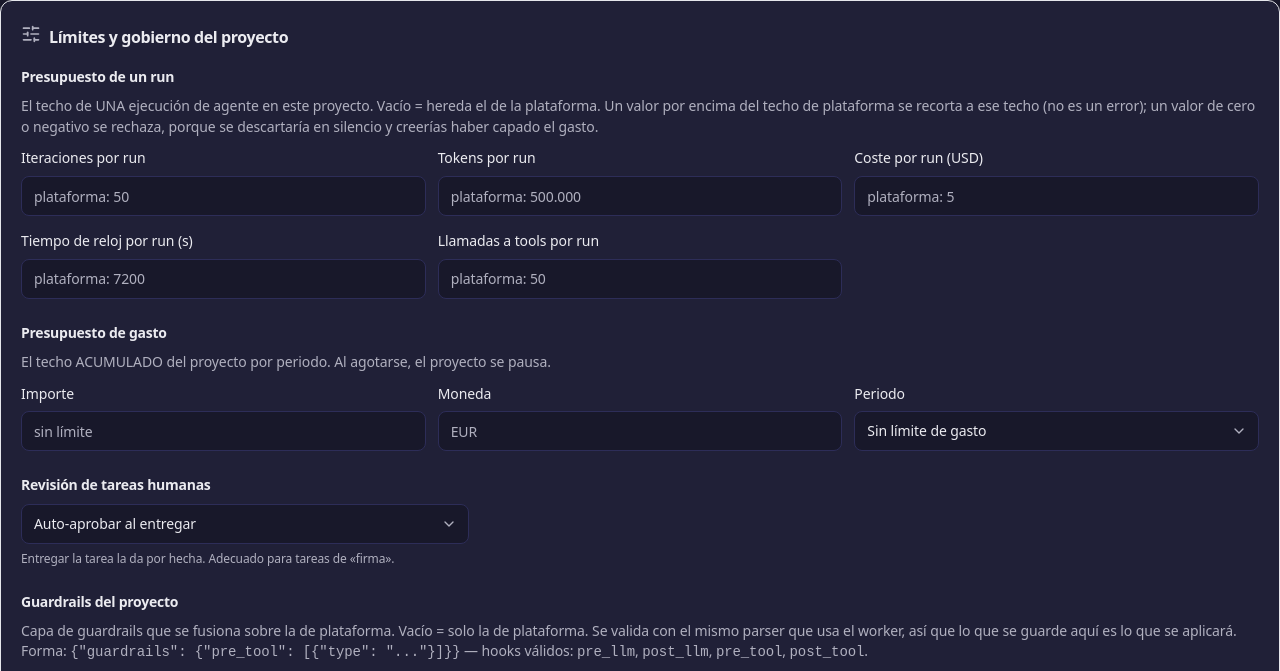
ProjectGovernanceSection › only asks for the custom-period fields when the period is custom
Select "Personalizado" in the dropdown with test id "budget-period". click: [1057, 431]
box: [854,411,1259,451]
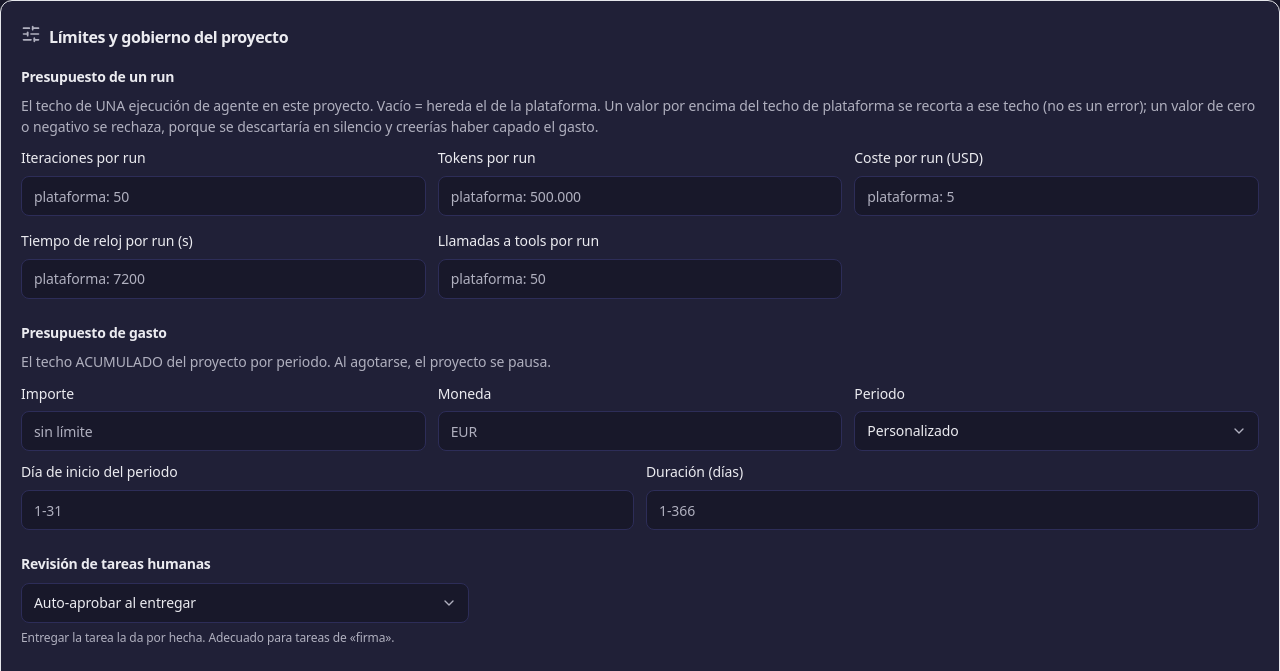
Now the field with test id "budget-start-day" is shown, box [21,490,634,530]
